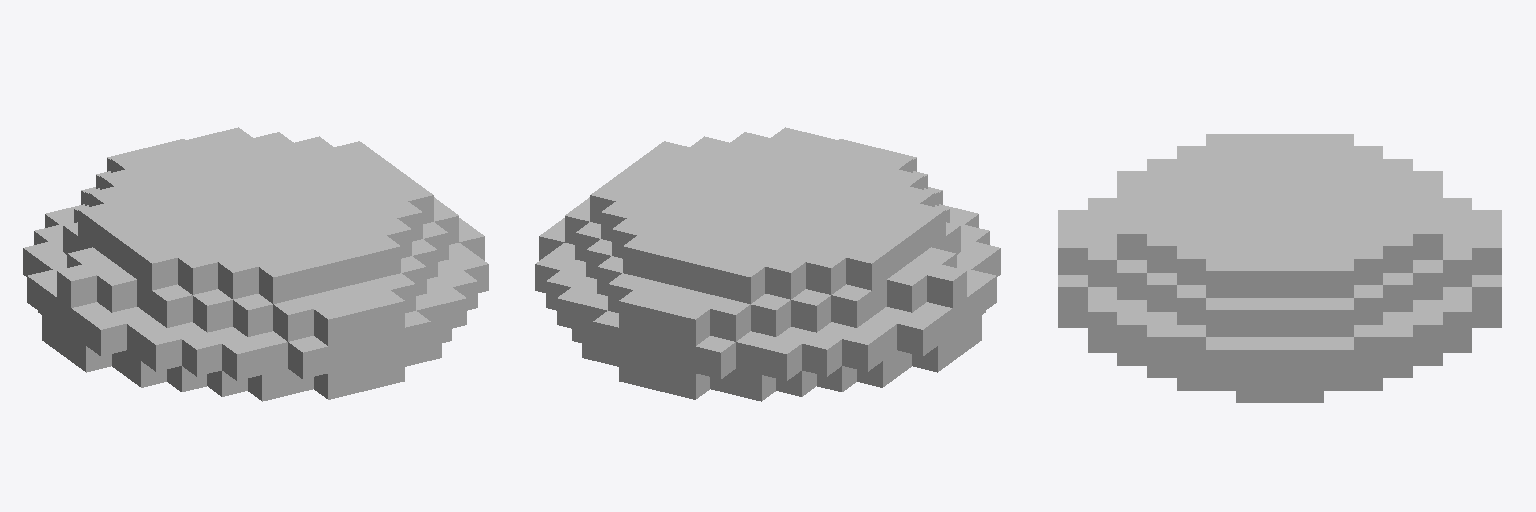
File: kompas-2.obj
3 views of the same model, side by side, from view 1: azimuth 30°, elevation 25°; view 2: azimuth 150°, elevation 25°; view 3: azimuth 270°, elevation 25° (orthographic).
Parts seen in each view (by area): view 1: Untitled.004; view 2: Untitled.004; view 3: Untitled.004.
Part boxes in pixels (x1,y1,x2,y2): Untitled.004: (23, 127, 488, 401); Untitled.004: (535, 127, 1000, 401); Untitled.004: (1058, 134, 1501, 402).
Size of the model in its own units: 1.5 by 0.4 by 1.5.